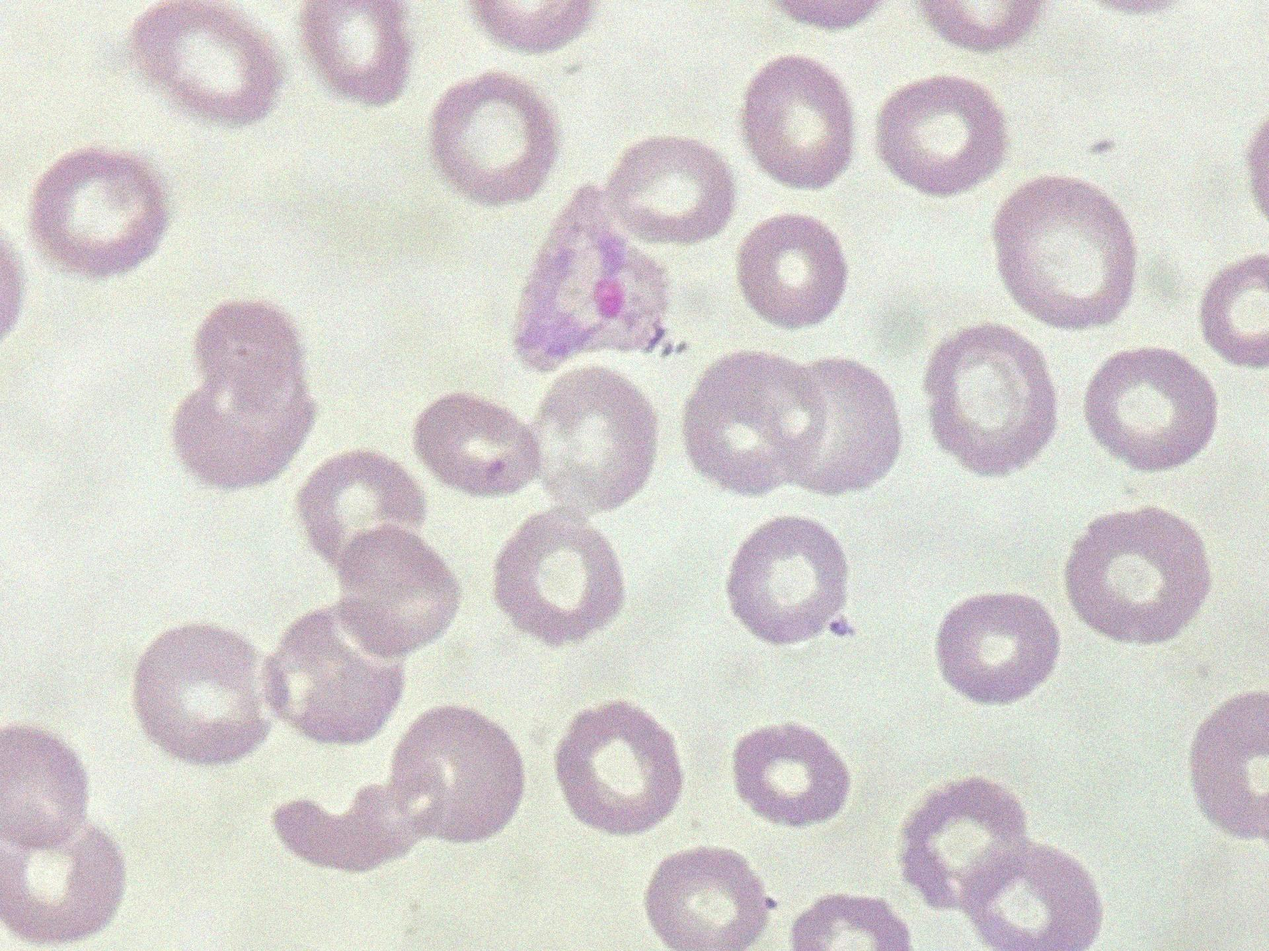Infected: (520, 184, 675, 378)
Uninfected: (131, 625, 286, 768), (682, 352, 828, 497), (129, 0, 284, 132), (1000, 175, 1132, 329), (930, 329, 1059, 477), (268, 608, 409, 743), (1072, 513, 1211, 647), (535, 369, 660, 513), (388, 707, 525, 838), (28, 151, 167, 280), (332, 524, 465, 656), (902, 775, 1028, 912), (430, 75, 560, 205), (494, 514, 623, 644), (557, 704, 681, 836), (173, 380, 322, 489), (296, 451, 430, 569), (0, 818, 134, 936), (879, 75, 1005, 200), (960, 843, 1103, 951), (745, 55, 857, 189), (787, 362, 902, 492), (1088, 349, 1218, 463), (729, 520, 845, 644), (610, 135, 738, 245), (197, 303, 311, 414), (739, 210, 848, 324), (411, 395, 540, 491), (939, 592, 1055, 697), (647, 851, 765, 951), (735, 721, 849, 824), (0, 726, 85, 857), (1195, 688, 1269, 838), (302, 0, 407, 102)
